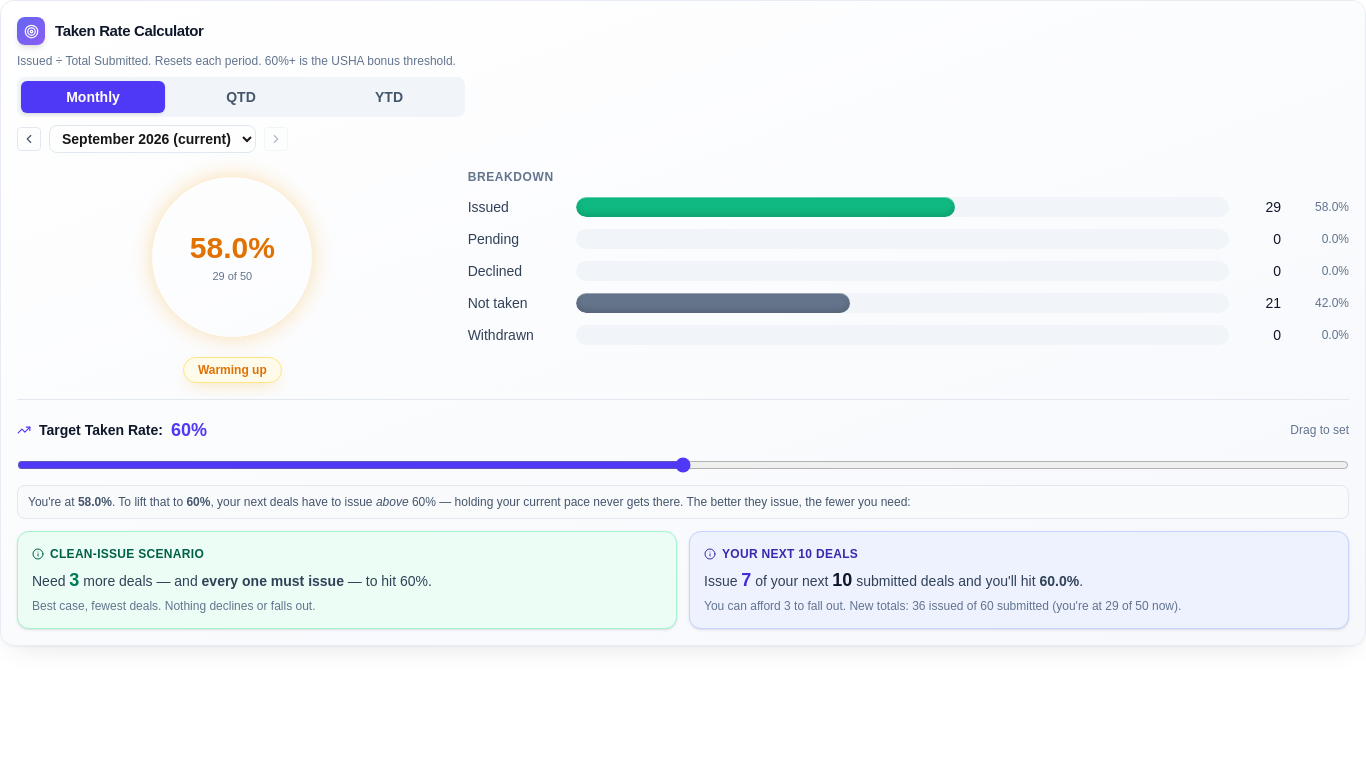
Test: exactly at target (29/50 @58%): both panels say at-or-above, never "need 0 more"
Set the slider to "58" at (639, 465), box [17, 457, 1349, 473]
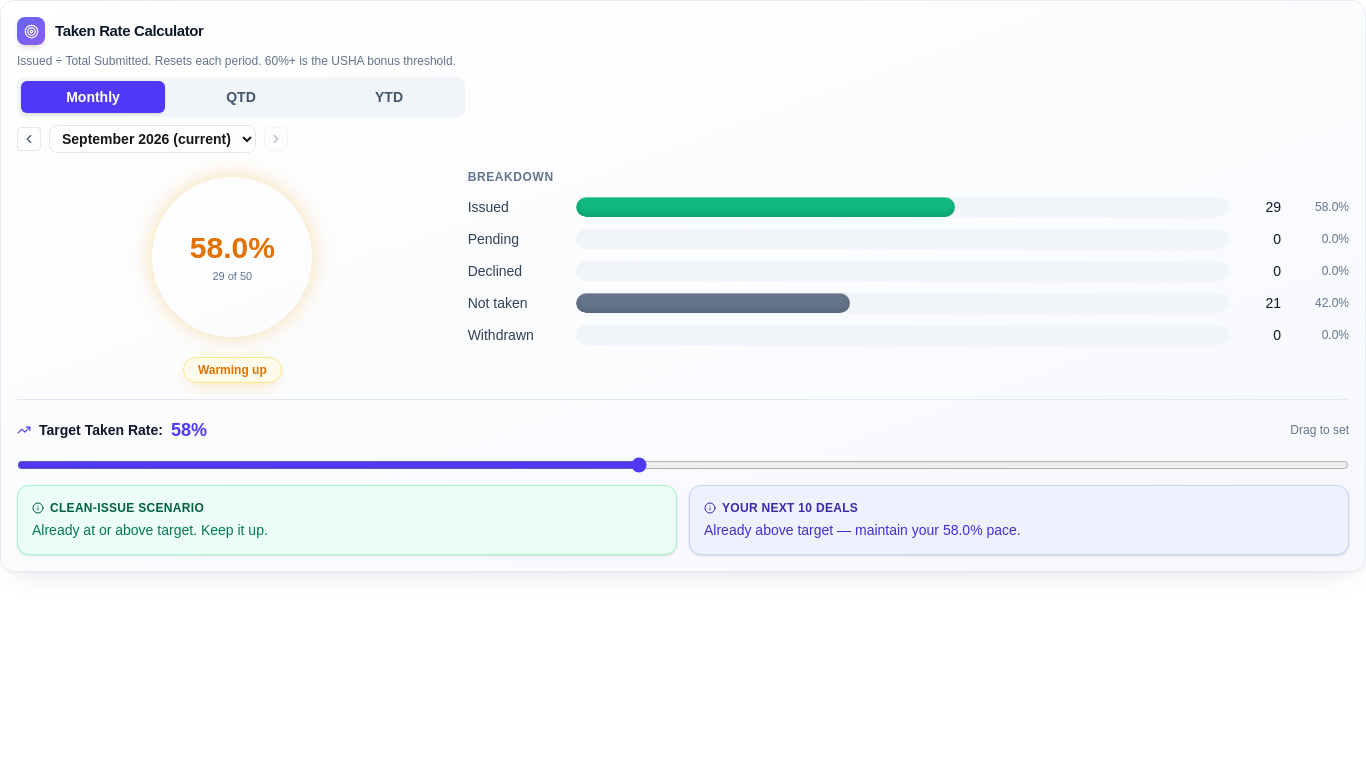
Expected: the text "Already at or above target. Keep it up." is shown, [32, 522, 268, 538]
Expected: the text "Already above target — maintain your 58.0% pace." is shown, [704, 522, 1021, 538]
Expected: the text "your next deals have to issue" is gone
